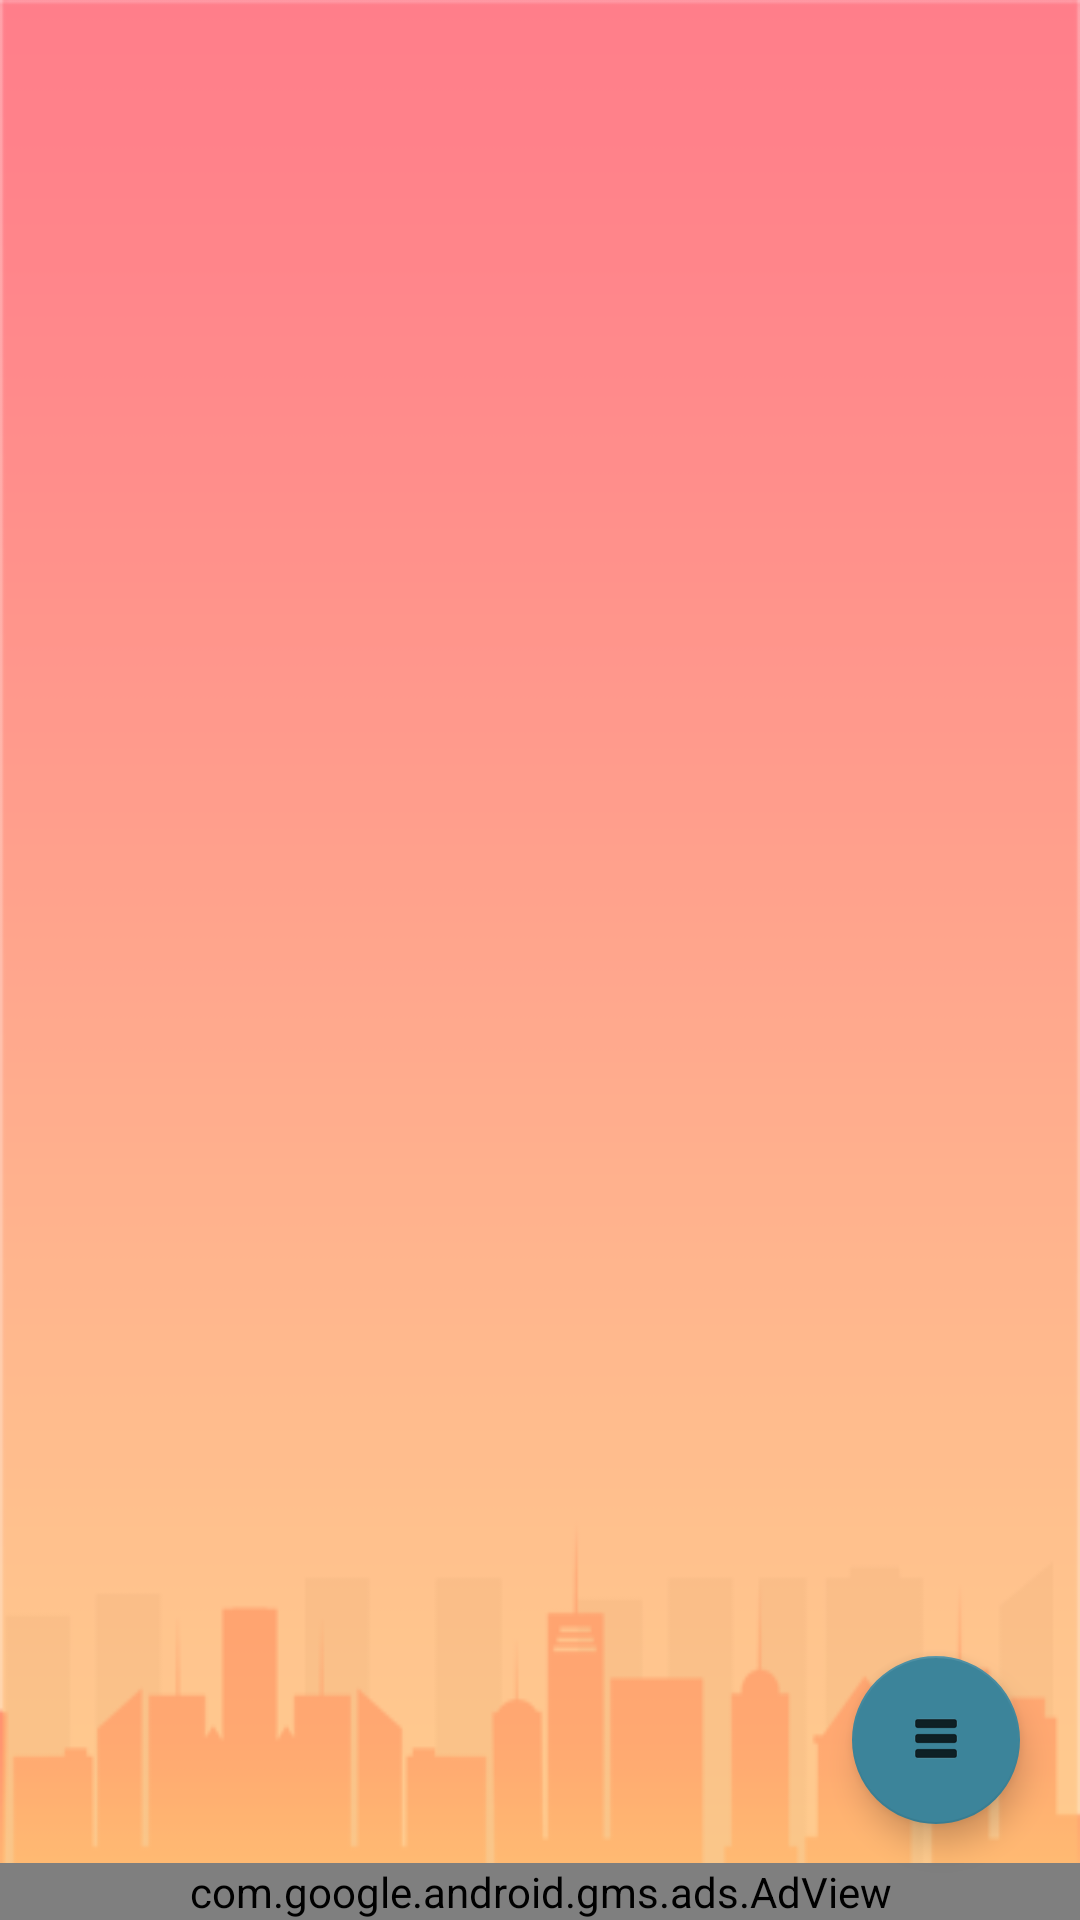

Named icons in this screenshot (1080 x 1920) and their centers, point (x, y):
menu: point (936, 1740)
